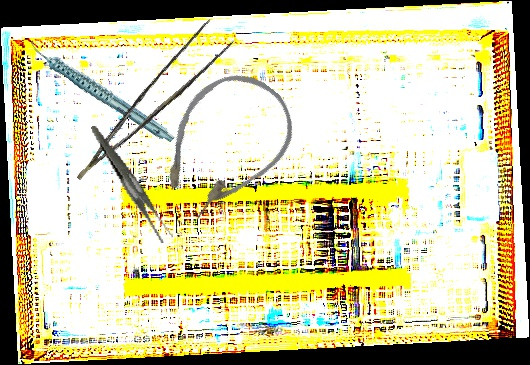Cannula: (136, 54, 312, 237)
Dressing Forceps: (90, 113, 175, 254)
Handpiece: (27, 13, 176, 169)
Tissue Forceps: (53, 13, 243, 181)
